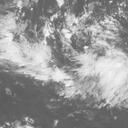cyclone: (36, 31, 117, 95)
